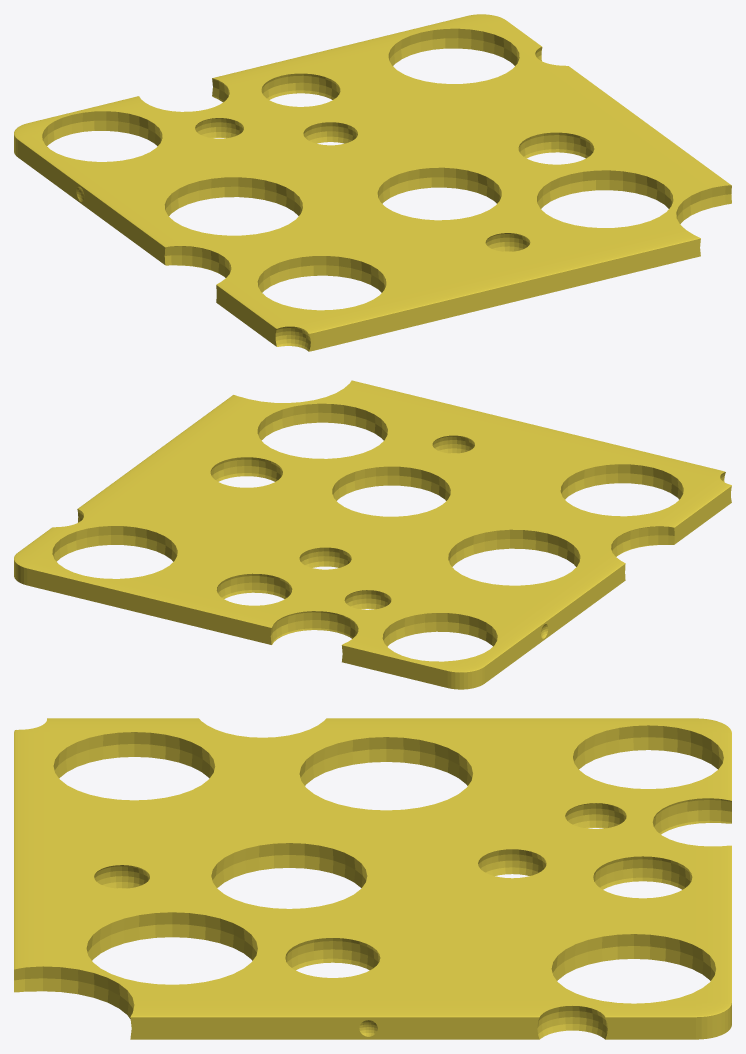
Rendered from cheese.glb.
3 renders of one model, top to bottom at view 1: azimuth 30°, elevation 25°; view 2: azimuth 150°, elevation 25°; view 3: azimuth 270°, elevation 25°, orthographic. The views are drawn at different scales.
Visible parts, largest first — view 1: Cube; view 2: Cube; view 3: Cube.
Boxes of the visible parts, left/top/right/bottom form: Cube: left=14, top=14, right=731, bottom=351; Cube: left=14, top=380, right=731, bottom=689; Cube: left=14, top=718, right=731, bottom=1039.
Bounding box in the file's own units: 0.8065 × 0.0313 × 0.8191.
